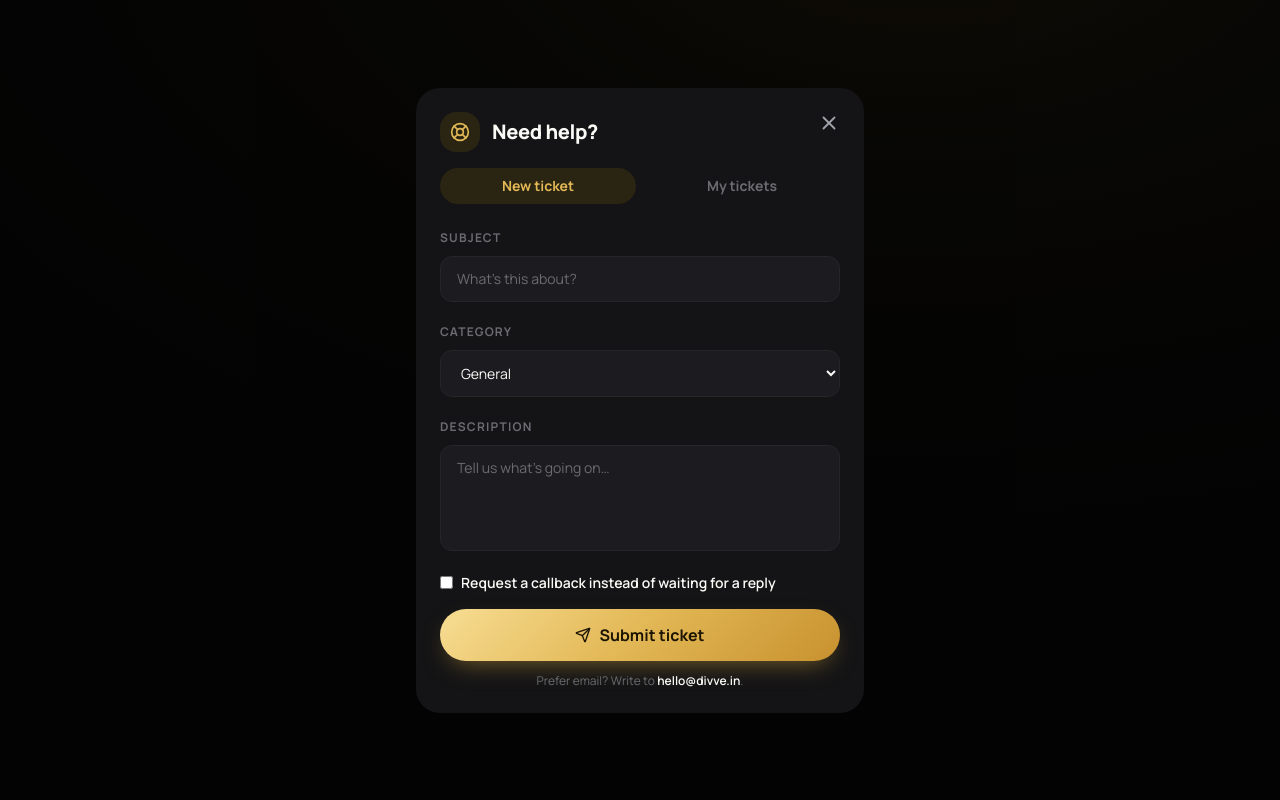
SupportCard › switches to My tickets and lists the caller's own tickets
Click the button with test id "support-tab-mine-btn" at (742, 186), box [644,168,840,204]
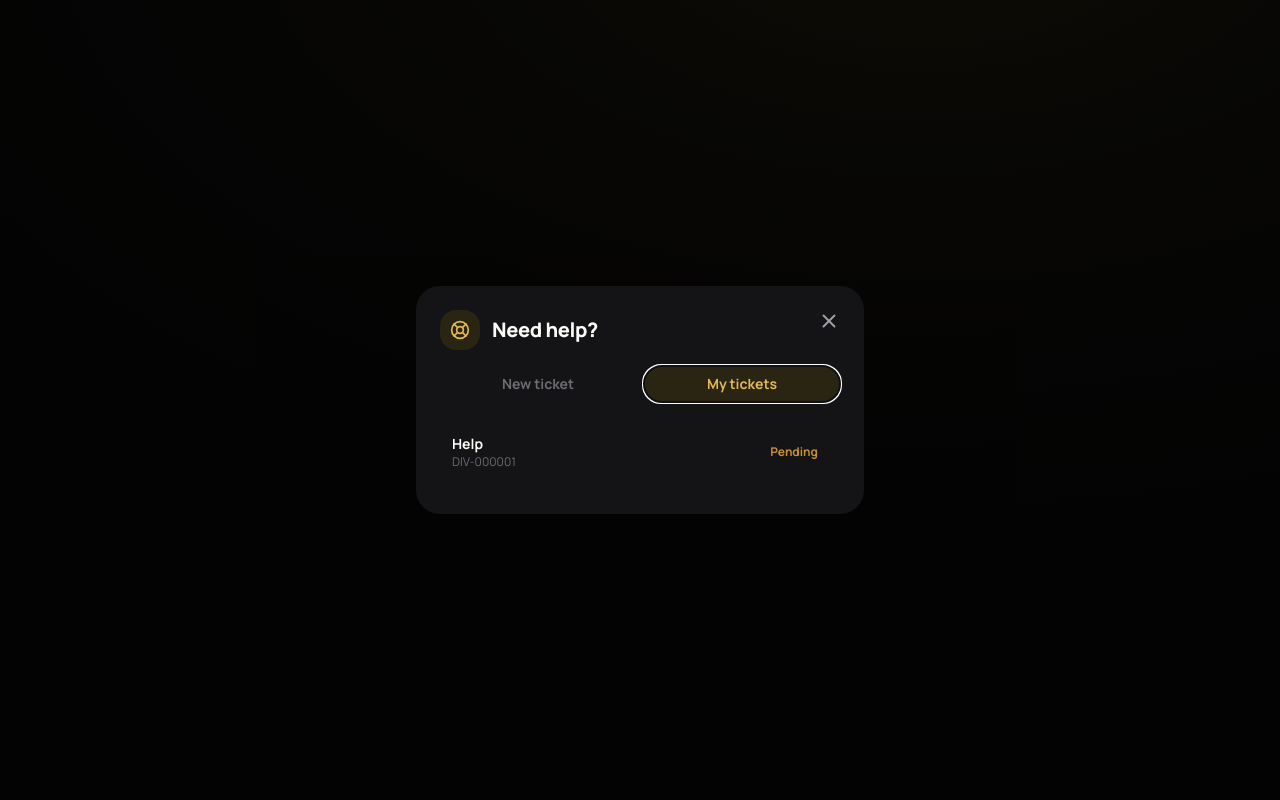
Result: the element with test id "support-my-tickets-list" is shown at [440,422,840,482]
Result: the text "DIV-000001" is shown at [452,454,516,470]
